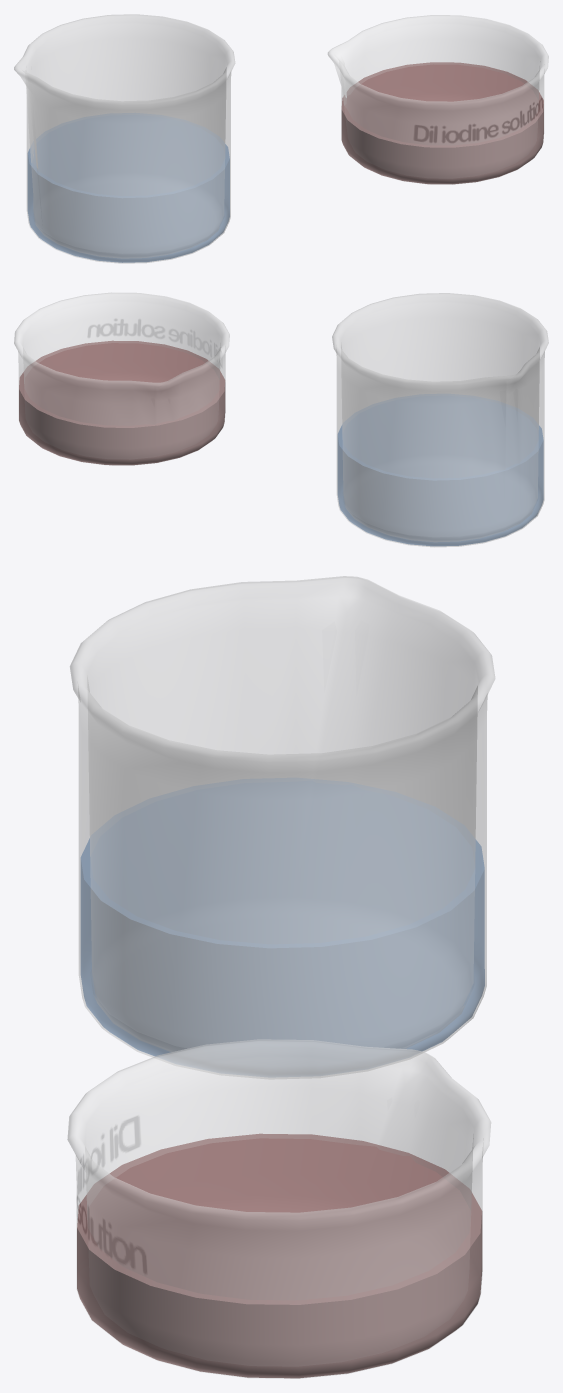
The model's file is acids.fbx.
The picture shows the model from 3 angles, top to bottom: view 1: azimuth 30°, elevation 25°; view 2: azimuth 150°, elevation 25°; view 3: azimuth 270°, elevation 25°; orthographic projection. The views are drawn at different scales.
Parts seen in each view (by area): view 1: acids; view 2: acids; view 3: acids.
Boxes of the visible parts, <box> form: acids: <box>14,14,548,263</box>; acids: <box>14,292,548,547</box>; acids: <box>67,576,495,1378</box>.
Size of the model in its own units: 56.35 by 17.83 by 20.82.
Materials: 4 (1 with a texture image).
